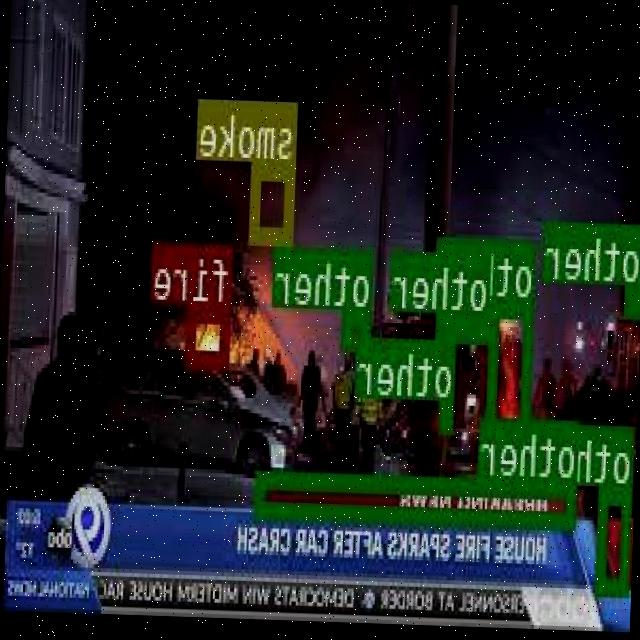fire: (186, 302, 232, 363)
smoke: (251, 159, 296, 242)
